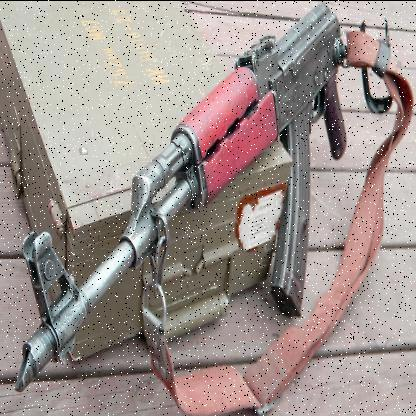rifle: (6, 8, 378, 393)
